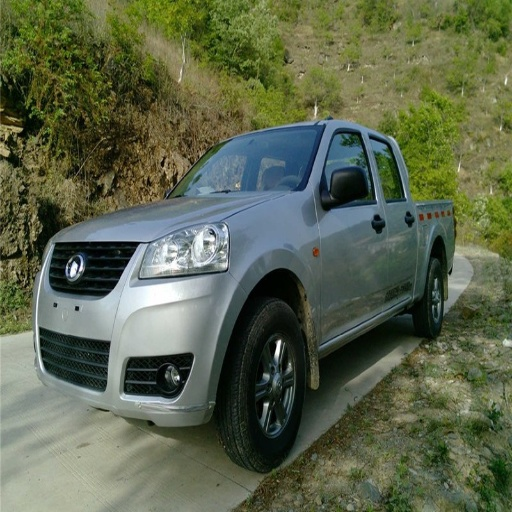front_bumper: (35, 240, 246, 426)
front_glass: (170, 128, 323, 196)
front_left_door: (318, 126, 387, 343)
trunk: (417, 200, 456, 257)
